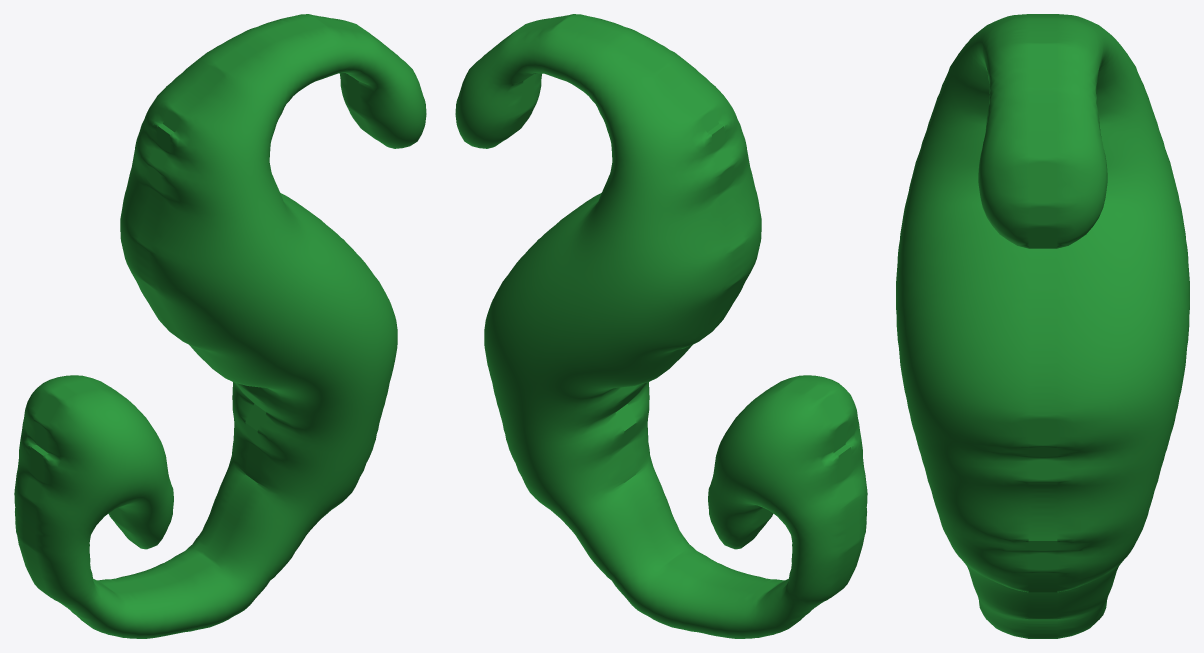
The picture shows the model from 3 angles, left to right: view 1: azimuth 30°, elevation 25°; view 2: azimuth 150°, elevation 25°; view 3: azimuth 270°, elevation 25°; orthographic projection. The views are drawn at different scales.
Visible parts, largest first — view 1: Mesh_1.002; view 2: Mesh_1.002; view 3: Mesh_1.002.
Part boxes in pixels (x1,y1,x2,y2): Mesh_1.002: [14, 14, 426, 638]; Mesh_1.002: [455, 14, 867, 638]; Mesh_1.002: [896, 14, 1189, 638].
Size of the model in its own units: 0.0638 by 0.09 by 0.0364.
